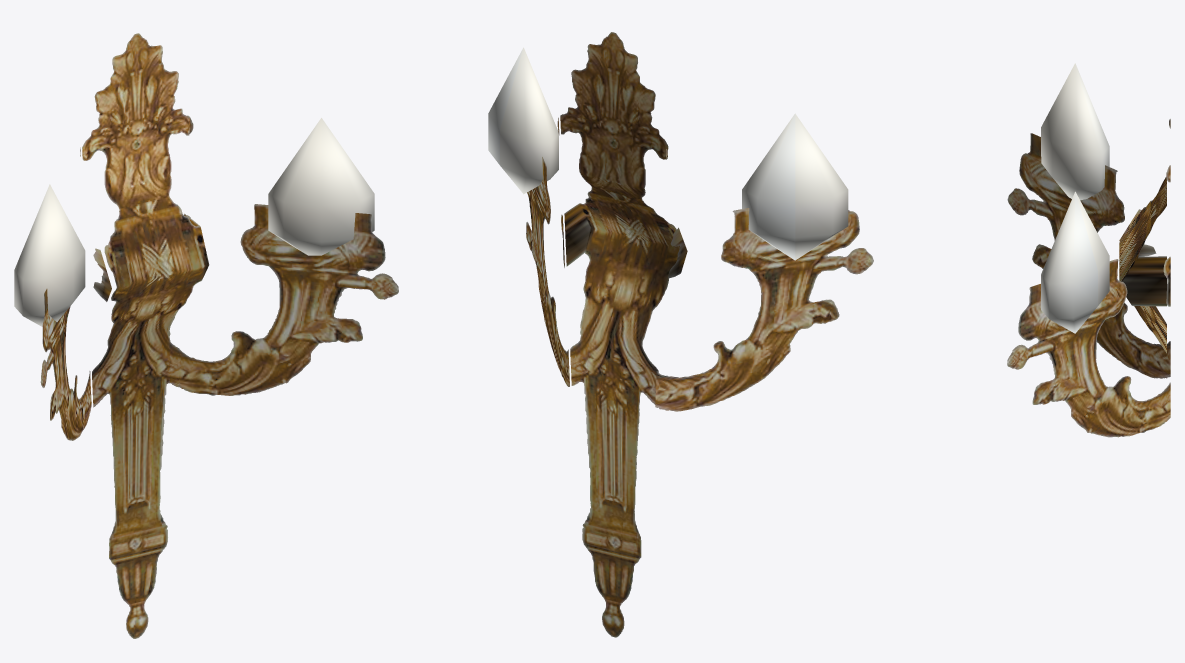
Rendered from Lamp-wall1.fbx.
3 views of the same model, side by side, from view 1: azimuth 30°, elevation 25°; view 2: azimuth 150°, elevation 25°; view 3: azimuth 270°, elevation 25° (orthographic). The views are drawn at different scales.
Visible parts, largest first — view 1: Lamp-wall1; view 2: Lamp-wall1; view 3: Lamp-wall1.
Boxes of the visible parts, <box> form: Lamp-wall1: <box>14,33,398,638</box>; Lamp-wall1: <box>488,32,873,637</box>; Lamp-wall1: <box>1007,63,1170,437</box>.
Size of the model in its own units: 79.96 by 108 by 34.13.
